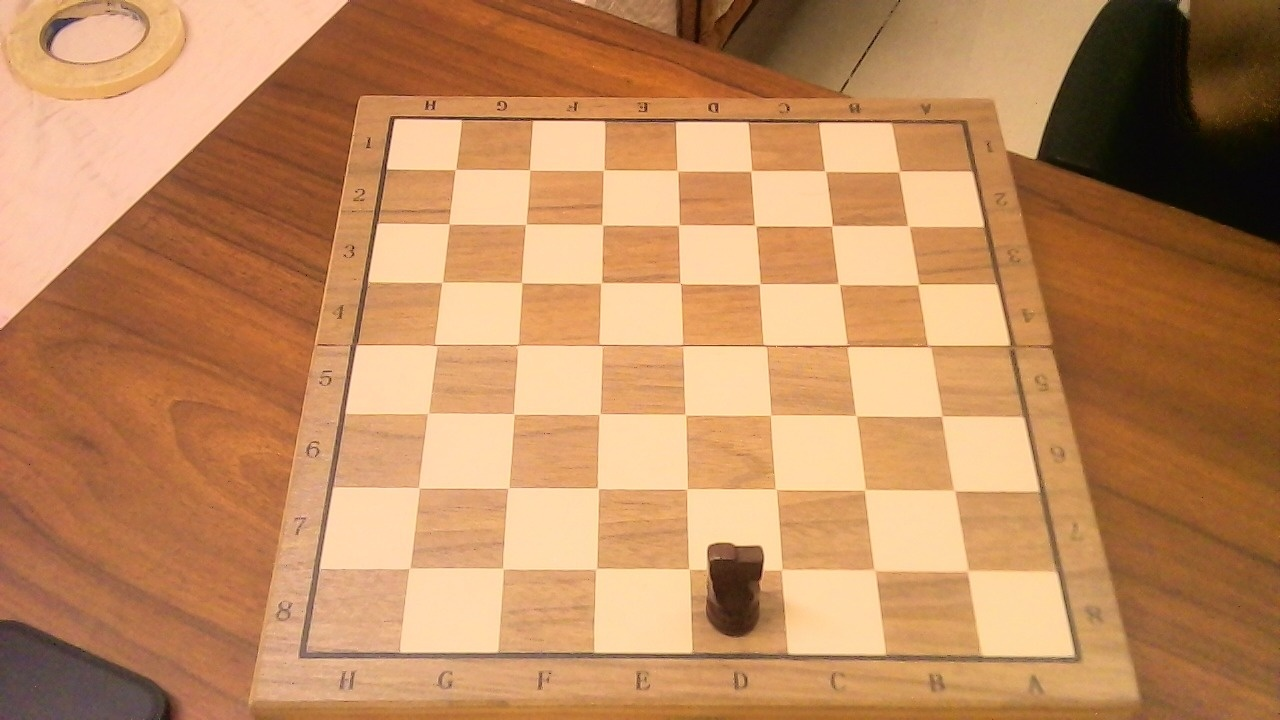n: (698, 528, 778, 640)
